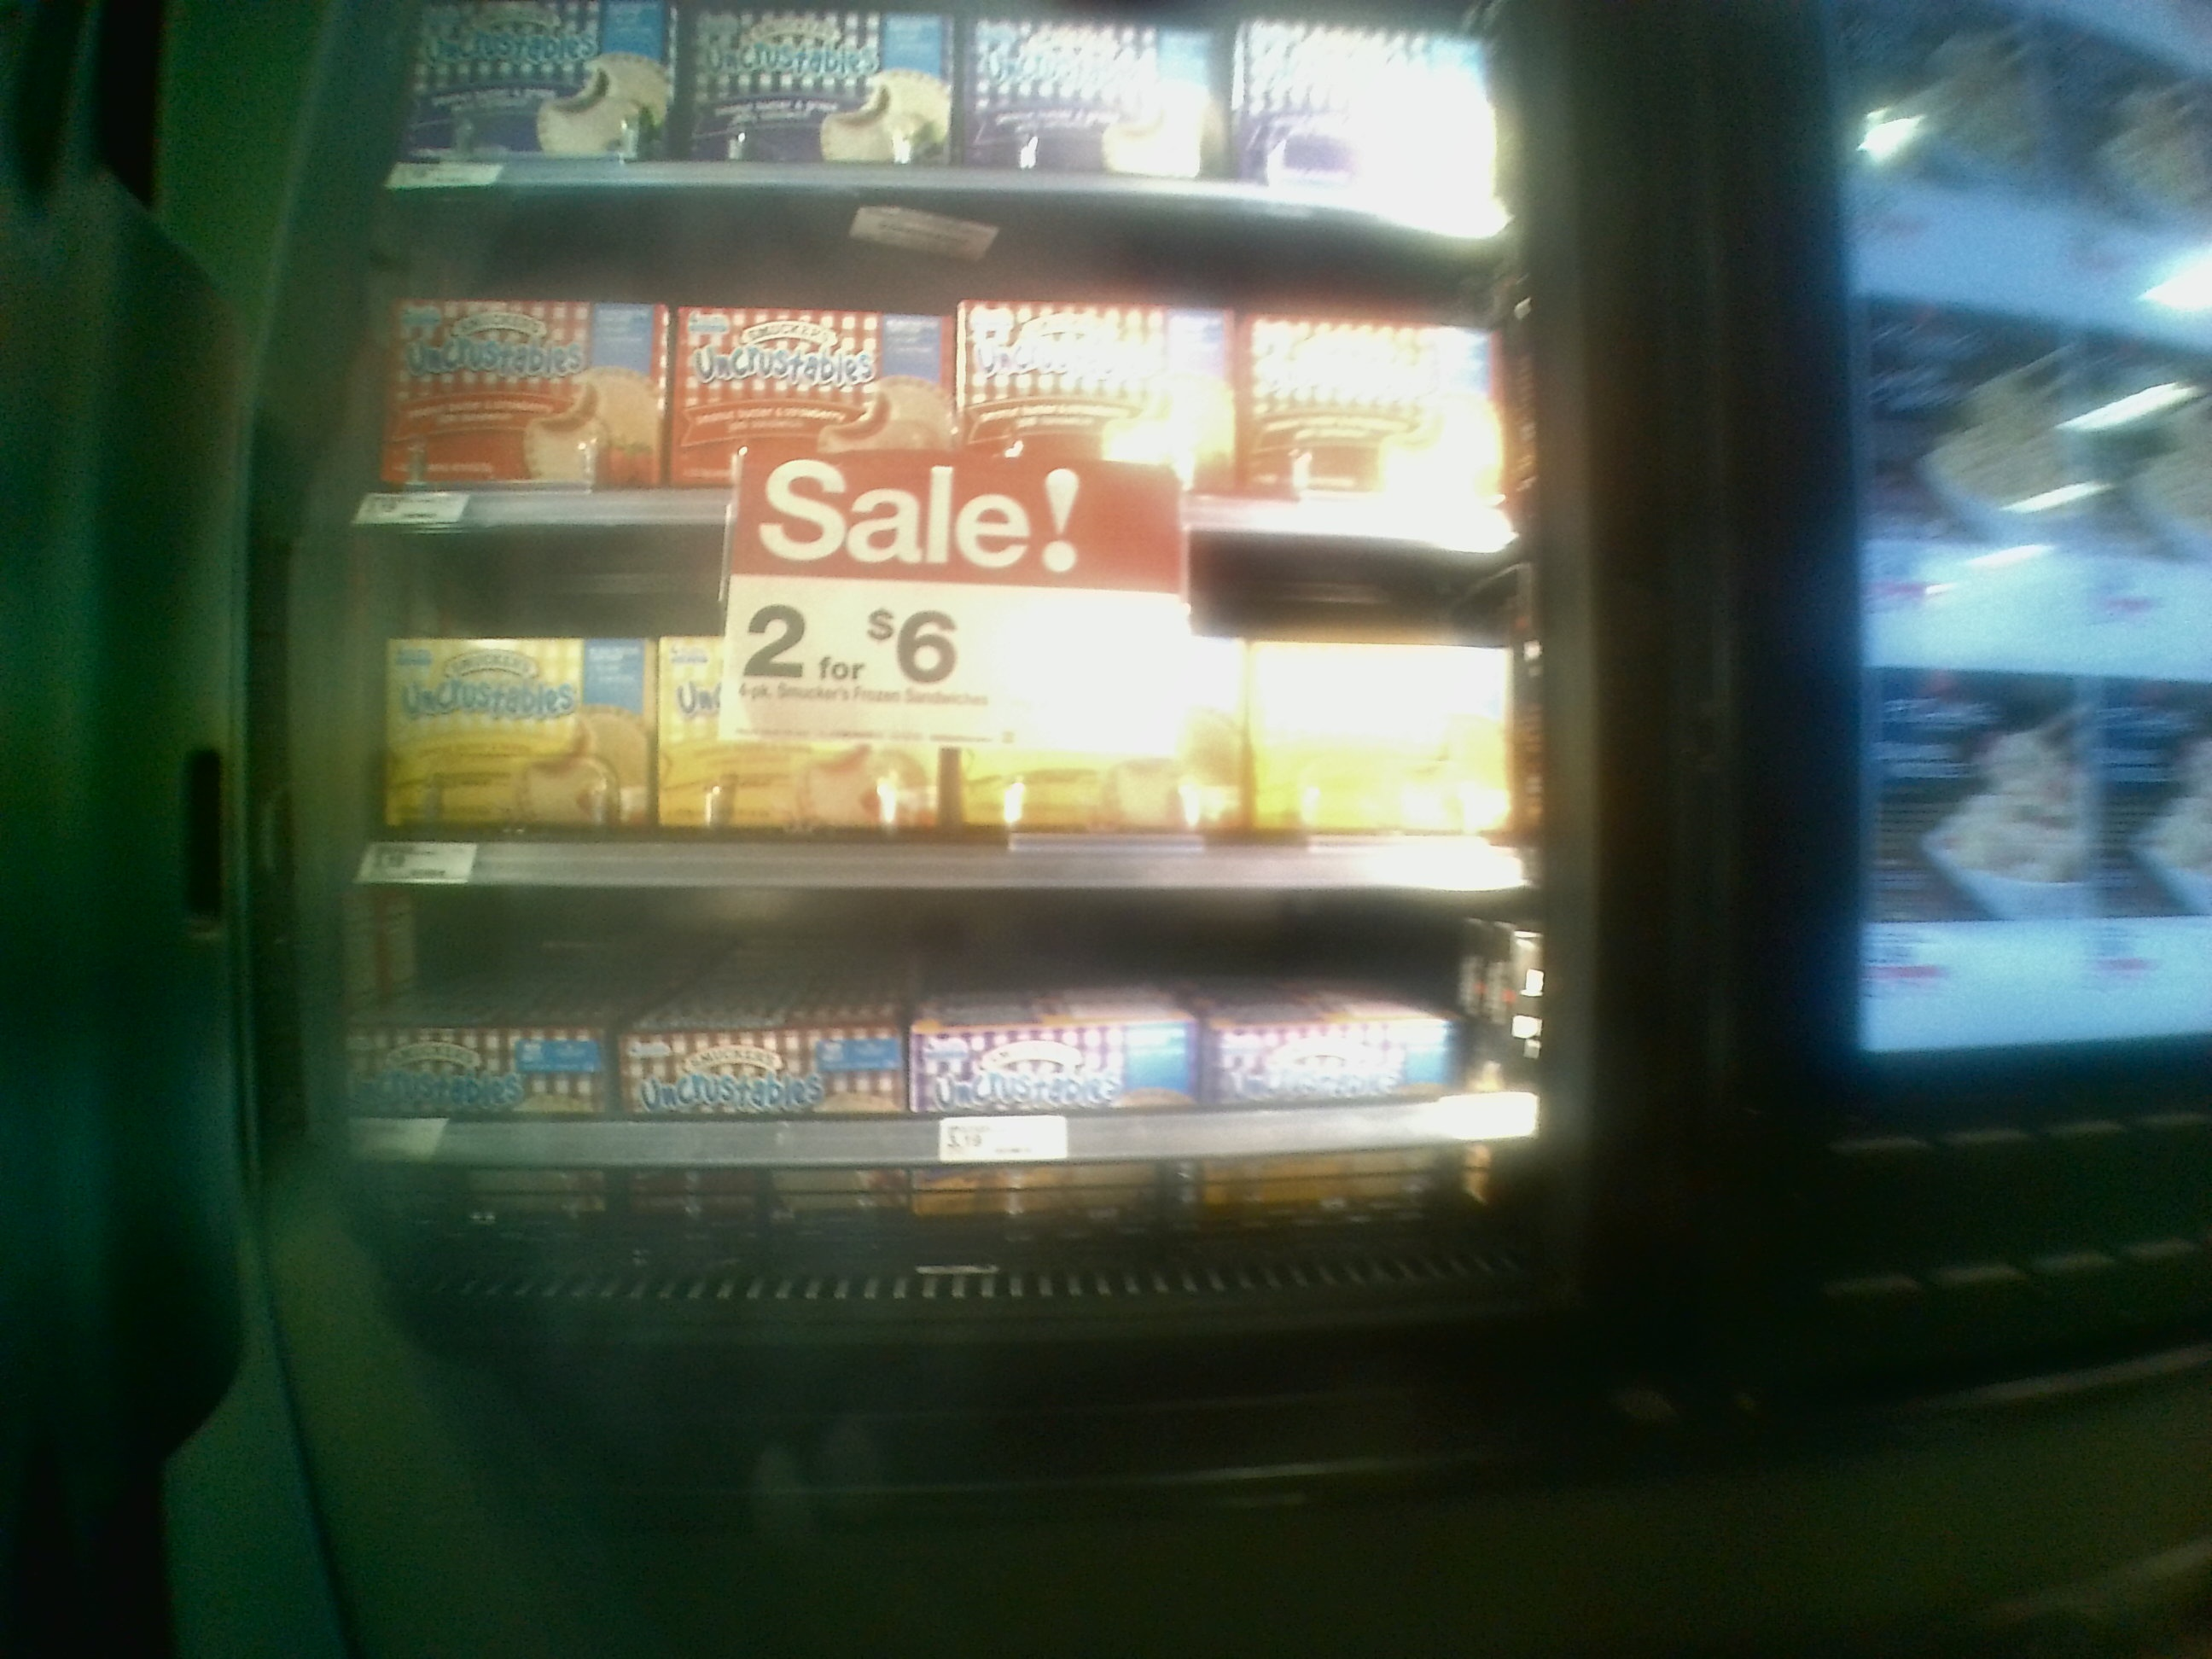shelf: (303, 885, 1571, 1330), (334, 183, 1534, 558), (322, 547, 1534, 896)
